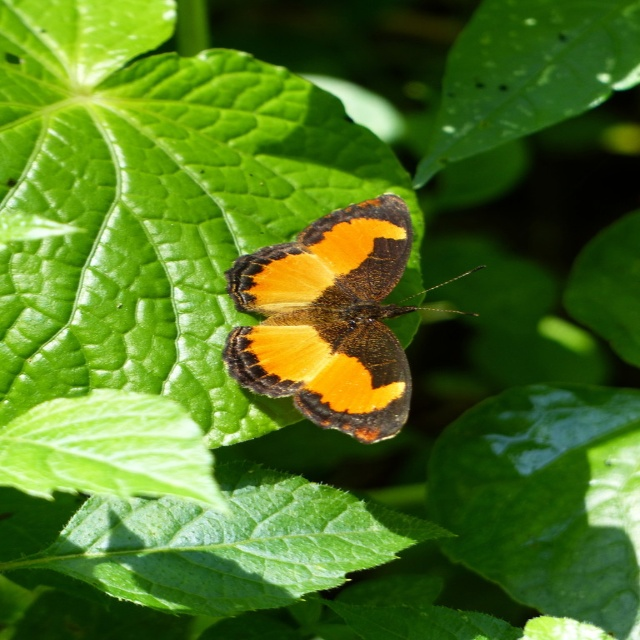Butterfly: (218, 190, 490, 445)
